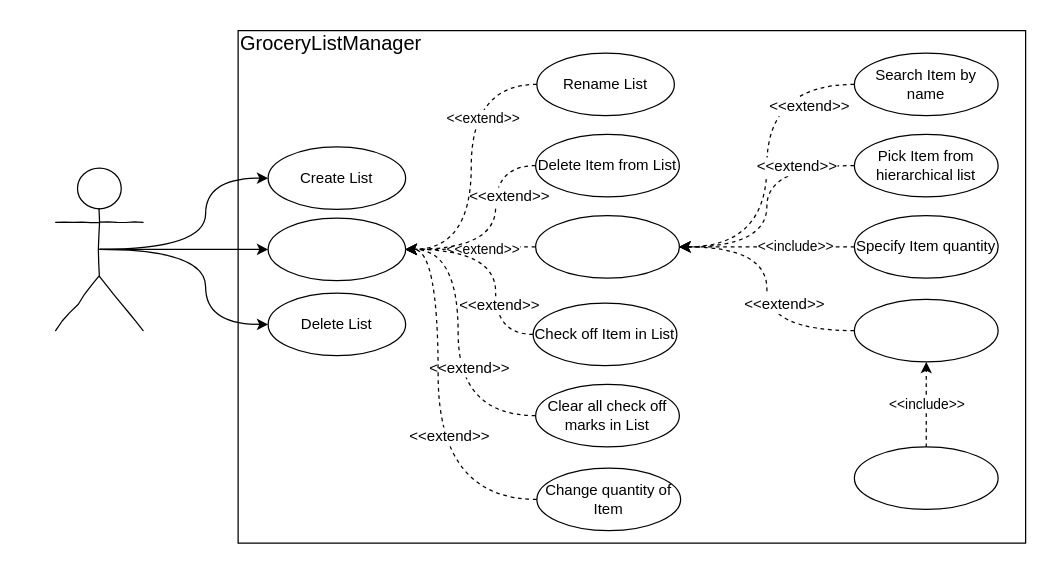
Image size: 1048x565. Some labels were removed from this diagram. The shapes that lost their labels are listed below. From the top down, each one's box as (x1, y1, x2, y2) in pixels, then its label:
(54, 167, 143, 331): User
(267, 217, 406, 281): Select List
(534, 214, 679, 278): Add Item to List
(853, 298, 998, 362): Add new Item to DB
(853, 446, 998, 509): Specify Item Type
